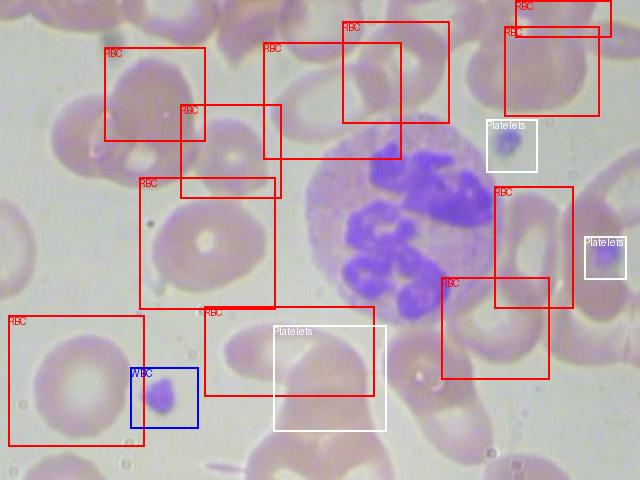Platelets: (273, 325, 386, 431), (486, 119, 537, 172), (584, 236, 626, 279)
RBC: (139, 177, 275, 309), (8, 315, 144, 446), (263, 42, 401, 159), (204, 306, 374, 396), (441, 277, 549, 379), (342, 21, 449, 123), (494, 186, 573, 308), (180, 104, 281, 198), (104, 47, 205, 141), (504, 26, 599, 116), (515, 0, 611, 37)
WBC: (130, 367, 198, 428)
